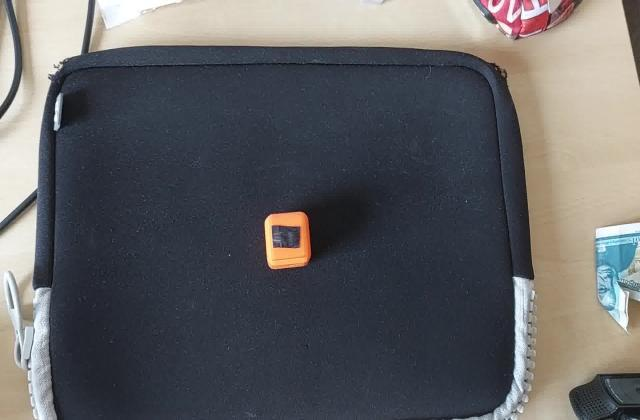black: (269, 224, 303, 252)
sticker: (262, 210, 314, 274)
